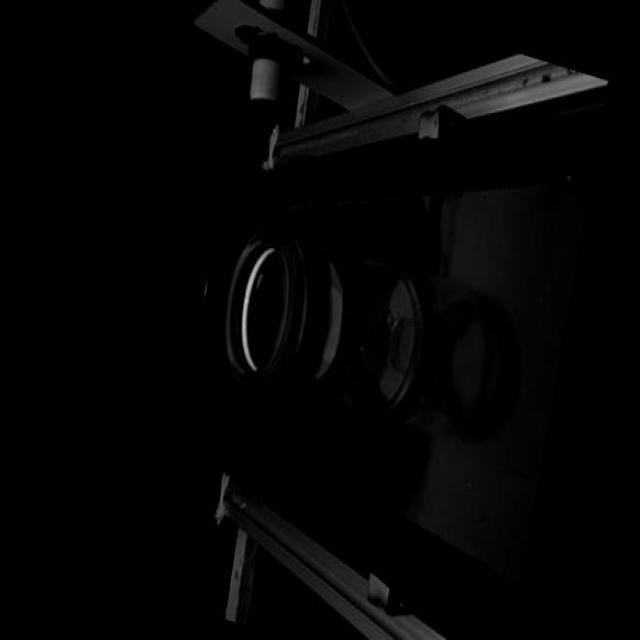defect: (309, 360, 318, 380)
glass: (210, 207, 440, 440)
